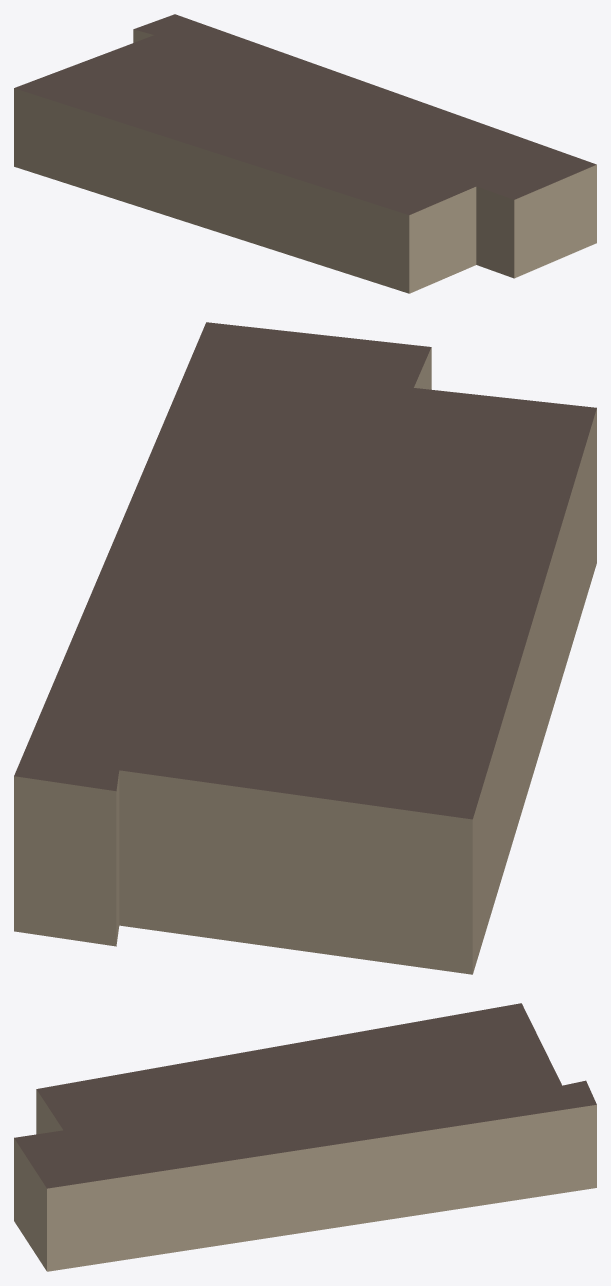
3 views of the same model, one above another, from view 1: azimuth 30°, elevation 25°; view 2: azimuth 150°, elevation 25°; view 3: azimuth 270°, elevation 25° (orthographic). The views are drawn at different scales.
Visible parts, largest first — view 1: HP-w682223768; view 2: HP-w682223768; view 3: HP-w682223768.
Part boxes in pixels (box(x1,y1,x2,y2)): HP-w682223768: box(14, 14, 596, 293); HP-w682223768: box(14, 322, 596, 974); HP-w682223768: box(14, 1003, 596, 1271).
Size of the model in its own units: 28.69 by 6 by 38.11.
